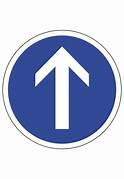stop: (3, 29, 122, 149)
